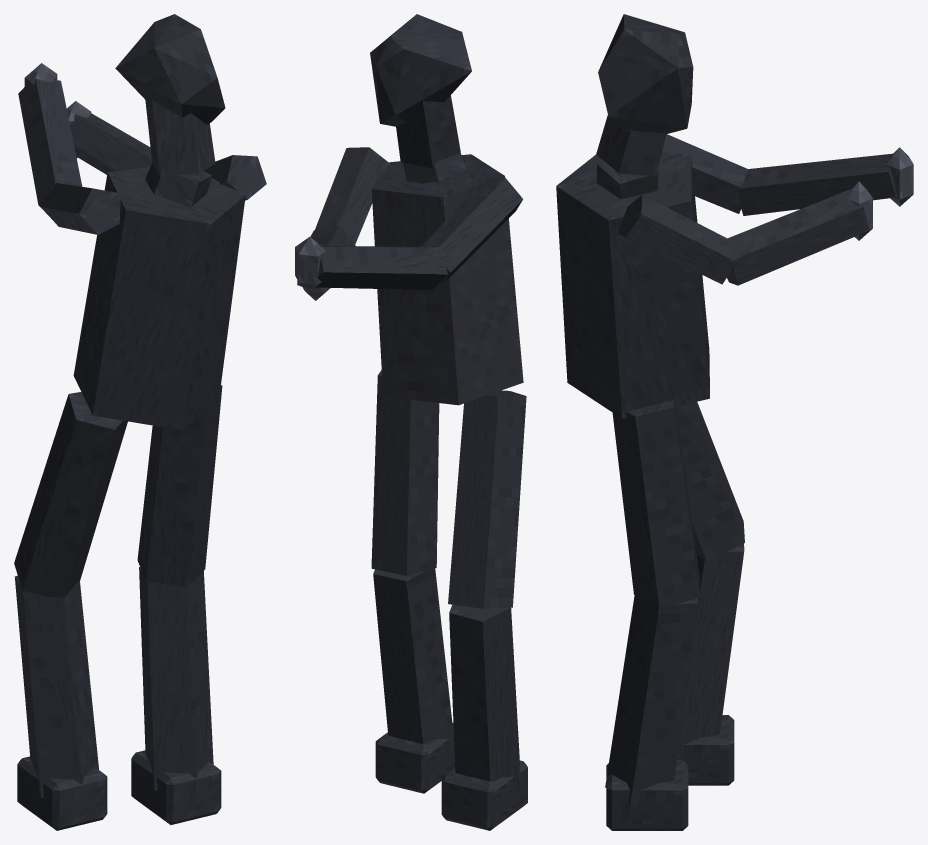
Rendered from f_glassedbody_5.glb.
The picture shows the model from 3 angles, left to right: view 1: azimuth 30°, elevation 25°; view 2: azimuth 150°, elevation 25°; view 3: azimuth 270°, elevation 25°; orthographic projection. The views are drawn at different scales.
Visible parts, largest first — view 1: block_angular-torso-1, block_faceted-glass-leg-1 (×2), block_faceted-glass-leg-2 (×2), block_solid-glass-foot (×2), block_angular-glass-arm-2 (×2), block_angular-black-glass-head, block_angular-glass-arm-1 (×2), block_vitrified-neck-2, block_vitrified-neck-1; view 2: block_faceted-glass-leg-2 (×2), block_angular-torso-1, block_faceted-glass-leg-1 (×2), block_angular-glass-arm-1 (×2), block_solid-glass-foot (×2), block_angular-black-glass-head, block_angular-glass-arm-2 (×2), block_vitrified-neck-2, block_glass-hand, block_vitrified-neck-1; view 3: block_angular-torso-1, block_faceted-glass-leg-1 (×2), block_faceted-glass-leg-2 (×2), block_angular-glass-arm-2 (×2), block_angular-black-glass-head, block_angular-glass-arm-1 (×2), block_solid-glass-foot (×2), block_vitrified-neck-2, block_glass-hand (×2), block_vitrified-neck-1.
Boxes of the visible parts, box(x1,y1,x2,y2) form: block_angular-torso-1: box(73, 167, 245, 430); block_faceted-glass-leg-1 (×2): box(14, 567, 213, 797); block_faceted-glass-leg-2 (×2): box(14, 385, 222, 597); block_solid-glass-foot (×2): box(17, 750, 221, 830); block_angular-glass-arm-2 (×2): box(18, 78, 151, 214); block_angular-black-glass-head: box(115, 14, 225, 124); block_angular-glass-arm-1 (×2): box(41, 155, 266, 234); block_vitrified-neck-2: box(145, 100, 215, 176); block_vitrified-neck-1: box(145, 162, 211, 206); block_faceted-glass-leg-2 (×2): box(371, 370, 526, 608); block_angular-torso-1: box(371, 154, 523, 405); block_faceted-glass-leg-1 (×2): box(373, 568, 521, 789); block_angular-glass-arm-1 (×2): box(315, 147, 522, 283); block_solid-glass-foot (×2): box(375, 723, 527, 830); block_angular-black-glass-head: box(370, 14, 471, 126); block_angular-glass-arm-2 (×2): box(297, 225, 447, 289); block_vitrified-neck-2: box(396, 95, 460, 168); block_glass-hand: box(295, 237, 325, 292); block_vitrified-neck-1: box(403, 152, 466, 183); block_angular-torso-1: box(556, 151, 709, 418); block_faceted-glass-leg-1 (×2): box(605, 543, 744, 805); block_faceted-glass-leg-2 (×2): box(612, 400, 744, 607); block_angular-glass-arm-2 (×2): box(727, 153, 897, 285); block_angular-black-glass-head: box(598, 14, 693, 133); block_angular-glass-arm-1 (×2): box(617, 134, 748, 284); block_solid-glass-foot (×2): box(606, 715, 734, 830); block_vitrified-neck-2: box(596, 115, 666, 176); block_glass-hand (×2): box(846, 147, 913, 240); block_vitrified-neck-1: box(597, 159, 658, 199).
Size of the model in its own units: 0.47 by 1.7 by 0.6936.
Materials: 1 (1 with a texture image).
